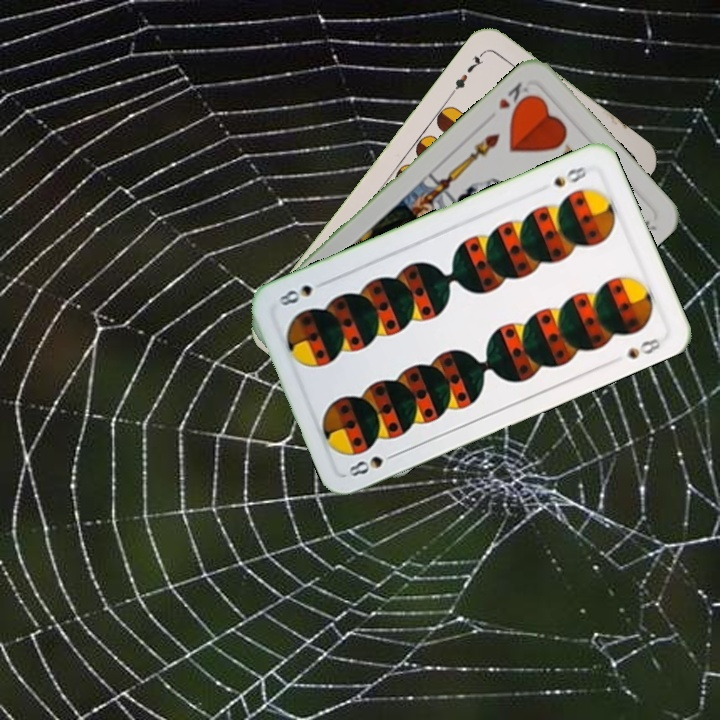E7: (447, 47, 488, 98)
HK: (494, 78, 534, 116)
S8: (344, 446, 401, 480), (549, 162, 589, 190)
